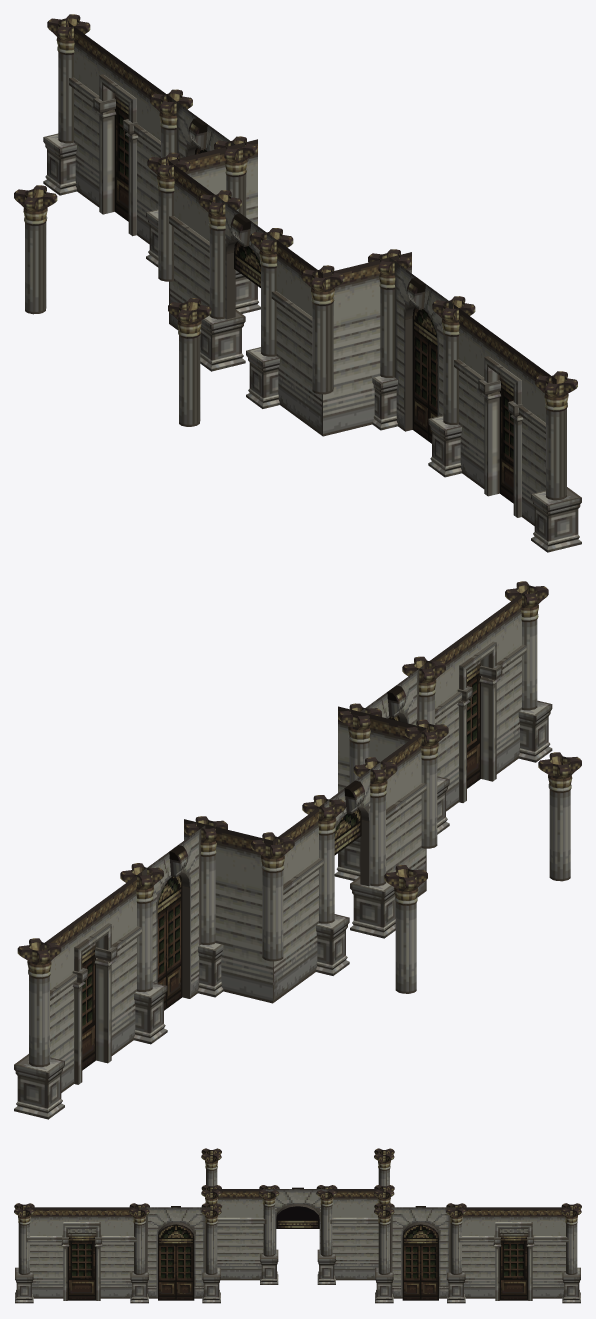
Rendered from EnvBdgMD_Mansion_Arlond_A_FrontWall.FBX.
The picture shows the model from 3 angles, top to bottom: view 1: azimuth 30°, elevation 25°; view 2: azimuth 150°, elevation 25°; view 3: azimuth 270°, elevation 25°; orthographic projection. The views are drawn at different scales.
Visible parts, largest first — view 1: EnvBdgMD_Mansion_Arlond_A_FrontWall; view 2: EnvBdgMD_Mansion_Arlond_A_FrontWall; view 3: EnvBdgMD_Mansion_Arlond_A_FrontWall.
Boxes of the visible parts, left/top/right/bottom form: EnvBdgMD_Mansion_Arlond_A_FrontWall: left=14, top=14, right=581, bottom=552; EnvBdgMD_Mansion_Arlond_A_FrontWall: left=14, top=581, right=581, bottom=1119; EnvBdgMD_Mansion_Arlond_A_FrontWall: left=14, top=1148, right=581, bottom=1303.
Bounding box in the file's own units: 537 × 350 × 1972.
Materials: 1 (1 with a texture image).
